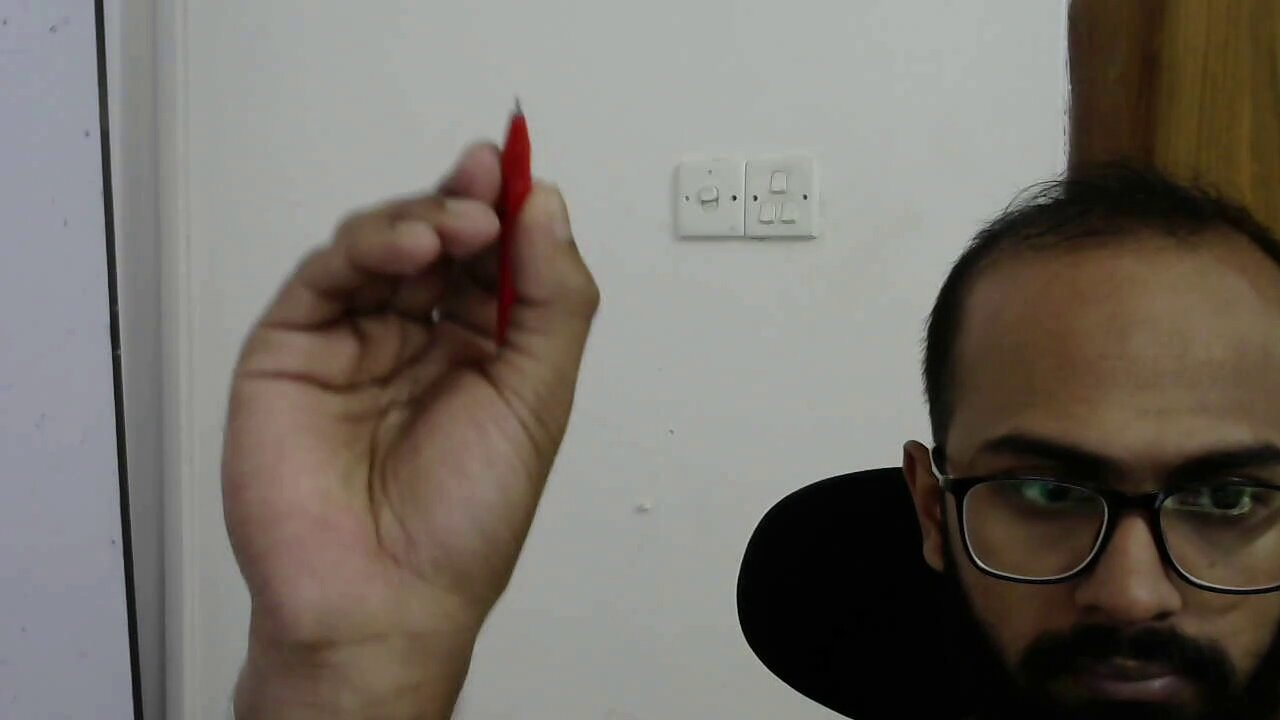pointer: (218, 133, 602, 541)
